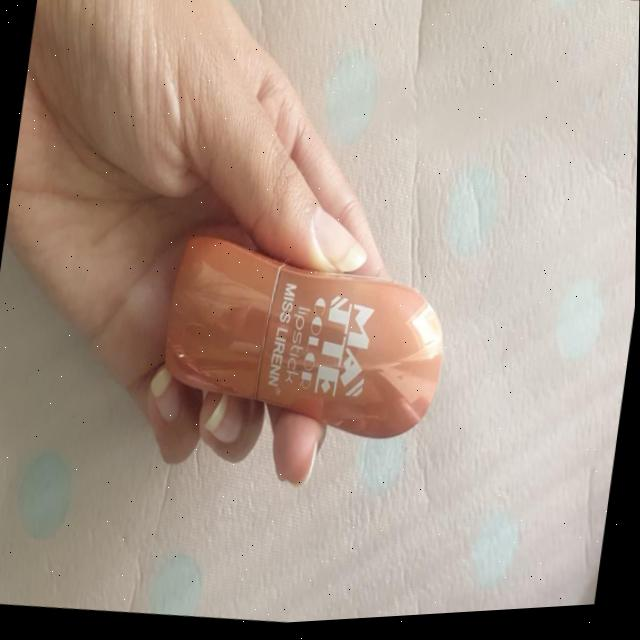lip stick: (142, 206, 490, 491)
